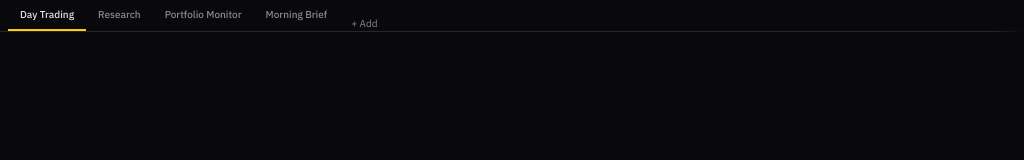
Test: WorkspaceTabs — adding workspaces › creates a new workspace tab when + Add is clicked
Click the button with aria-label "Add workspace": x=364, y=24 [343,17,386,31]
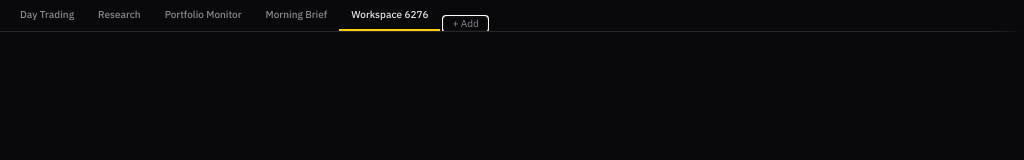
Expected: the number of tabs is 5, [20,8,74,20]; [98,8,141,20]; [165,8,242,20]; [266,8,327,20]; [339,0,440,31]
